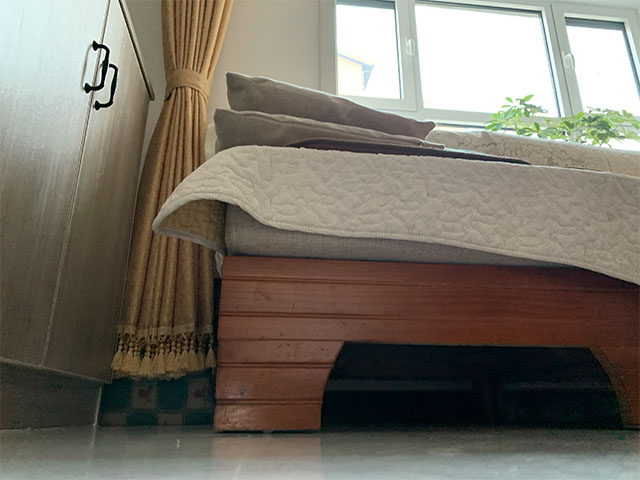cabinet: (1, 1, 156, 432)
curtain: (110, 1, 233, 382)
sofa: (151, 73, 640, 435)
